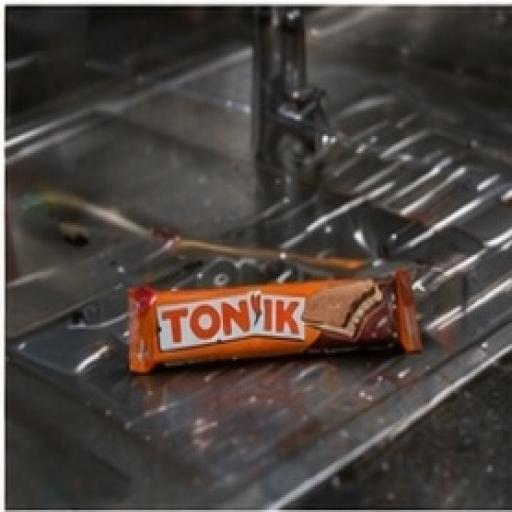tonik: (97, 242, 452, 394)
